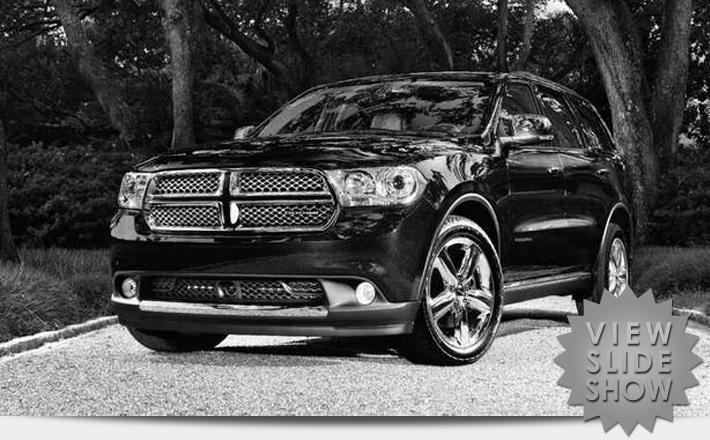car: (108, 73, 635, 367)
